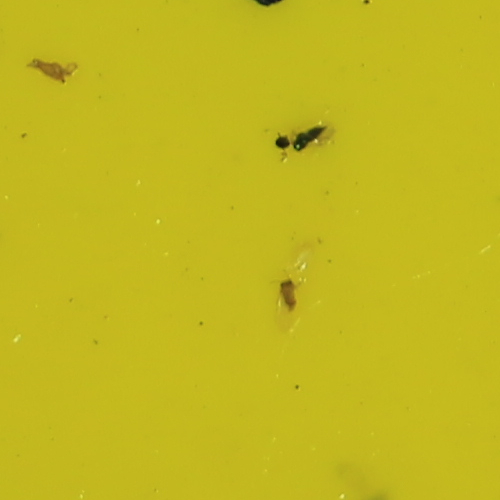psylla: (272, 278, 302, 316)
